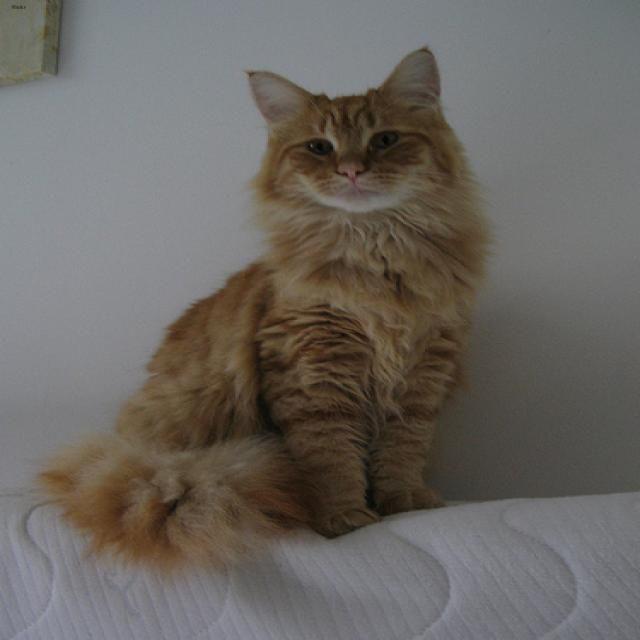Maine_Coon: (246, 46, 437, 210)
